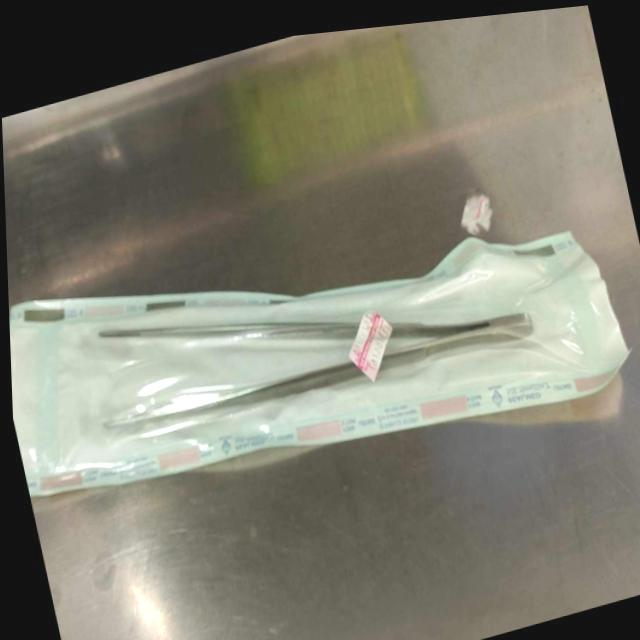General: (3, 3, 640, 639), (9, 227, 632, 499)
Sharps: (101, 310, 535, 431)
